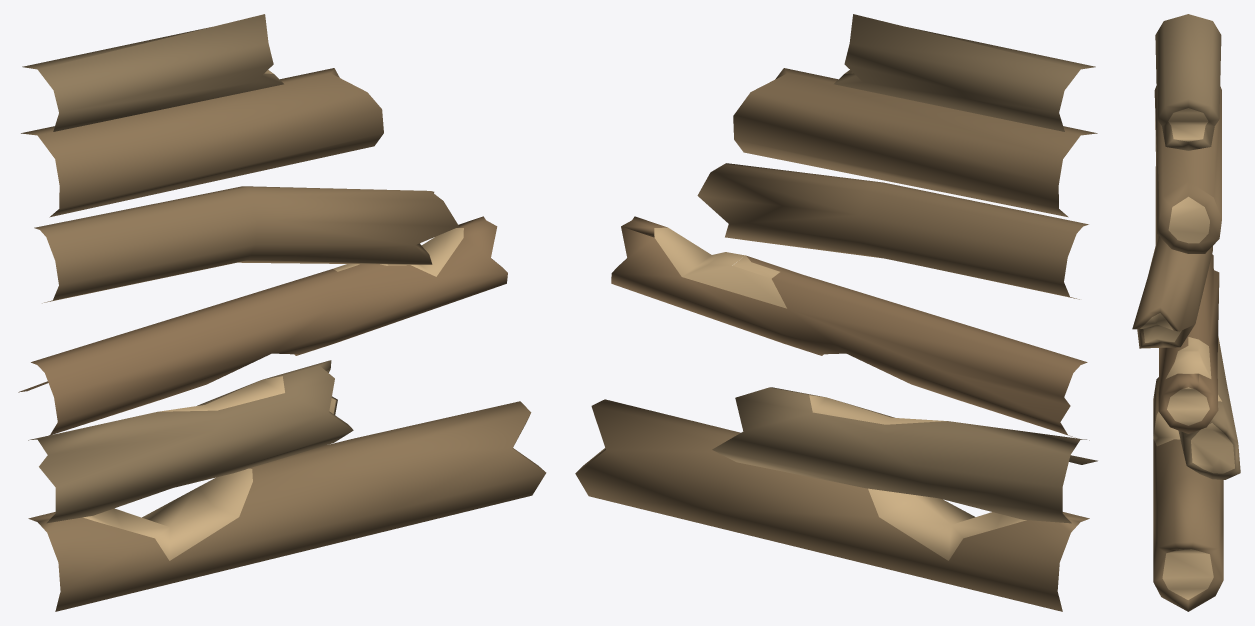
The model's file is rpgpp_av_wall_03_3x3_e.gltf.
The picture shows the model from 3 angles, left to right: view 1: azimuth 30°, elevation 25°; view 2: azimuth 150°, elevation 25°; view 3: azimuth 270°, elevation 25°; orthographic projection. The views are drawn at different scales.
Parts seen in each view (by area): view 1: rpgpp_av_wall_03_3x3_e; view 2: rpgpp_av_wall_03_3x3_e; view 3: rpgpp_av_wall_03_3x3_e.
Boxes of the visible parts, x1,y1,x2,y2 form: rpgpp_av_wall_03_3x3_e: [18, 14, 546, 611]; rpgpp_av_wall_03_3x3_e: [575, 14, 1097, 611]; rpgpp_av_wall_03_3x3_e: [1132, 14, 1240, 611].
Size of the model in its own units: 0.0286 by 0.03 by 0.00713.
Materials: 1 (1 with a texture image).
